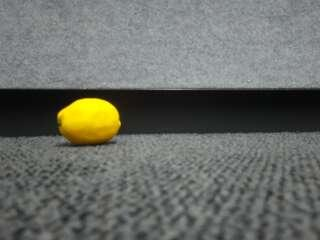lemon: (58, 98, 120, 145)
